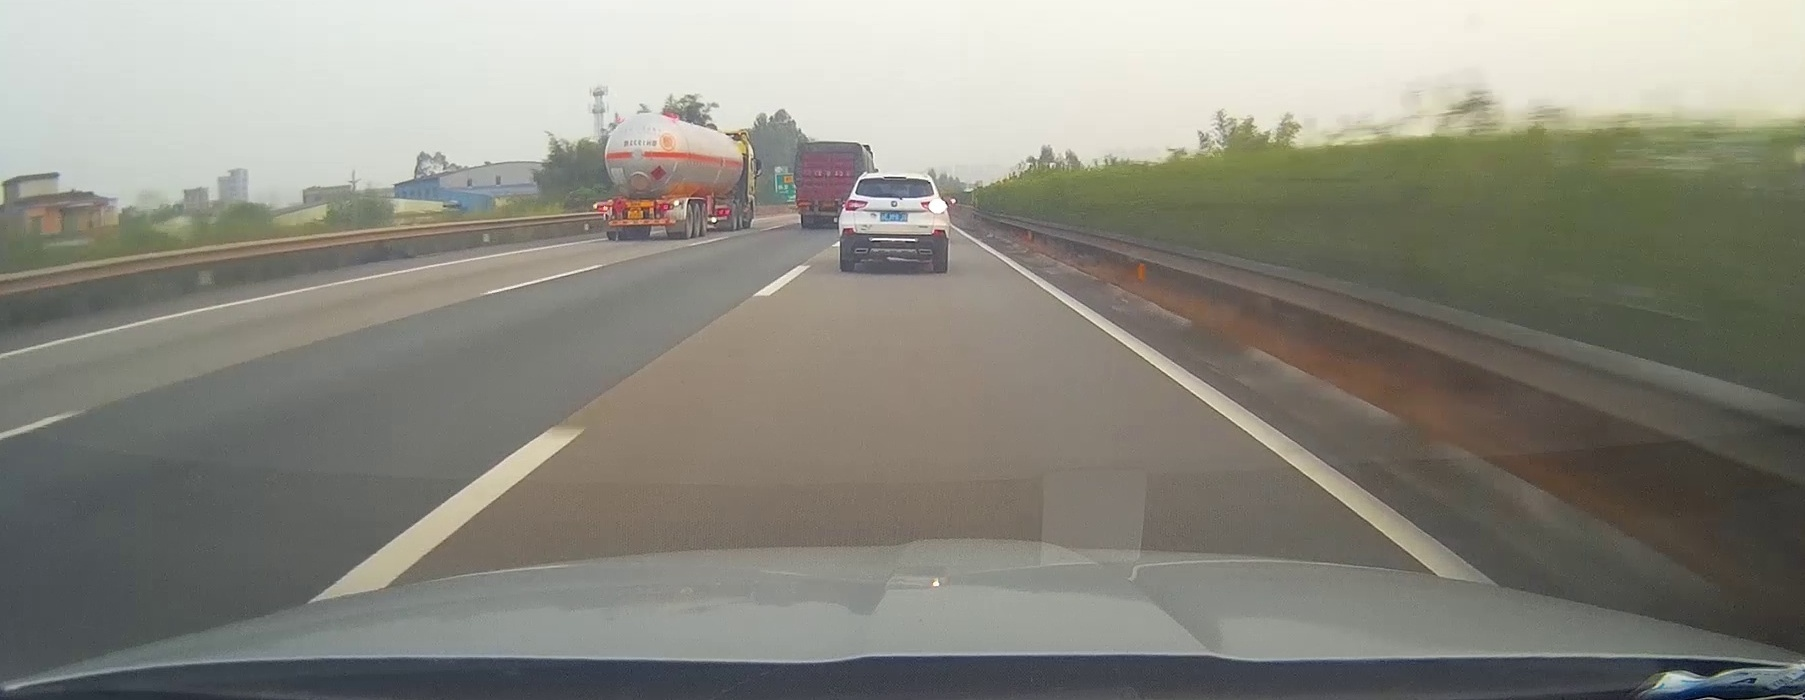L_light: (844, 199, 868, 212), (597, 206, 610, 212)
R_light: (921, 201, 945, 212), (661, 204, 675, 211)
T_light: (884, 177, 906, 180), (631, 200, 643, 204)
day-no: (592, 199, 687, 241)
day-right: (839, 174, 950, 272)
